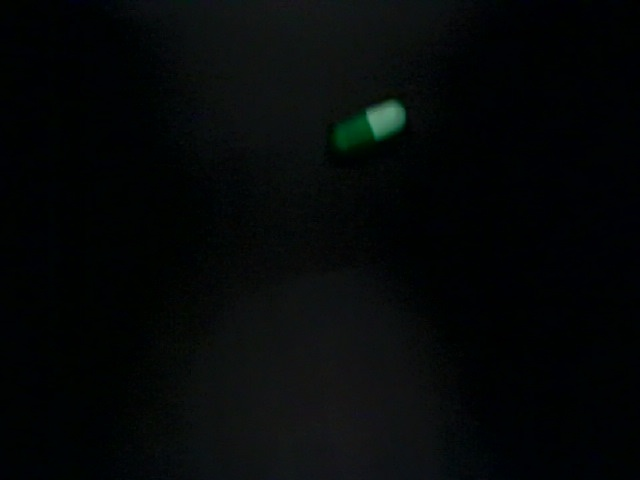YHLJ: (137, 169, 405, 261)
